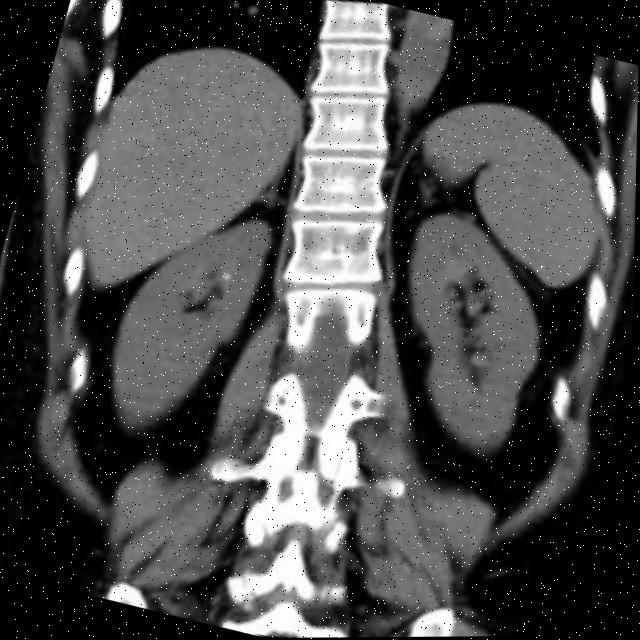Tas_Var: (219, 266, 236, 283)
